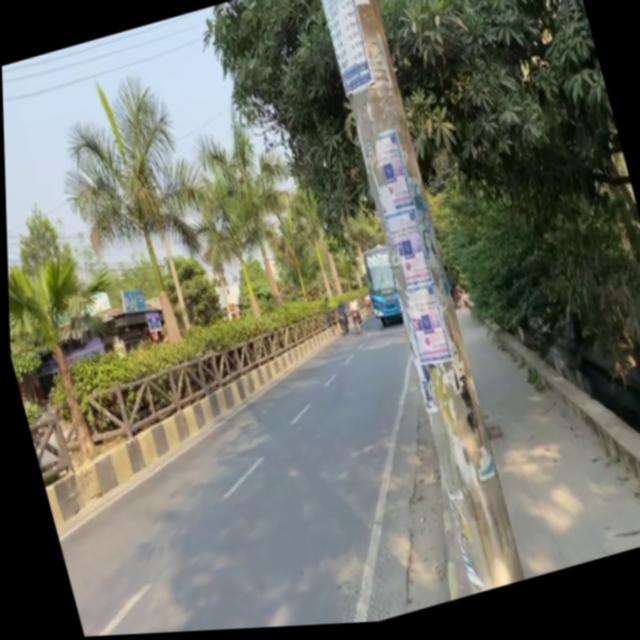Construction-barrier: (382, 342, 499, 608)
Garbage-bin: (343, 298, 364, 339), (330, 303, 348, 338)
Light-pole: (307, 0, 525, 604)
Pothole: (445, 248, 640, 586)
Traffic-cone: (353, 245, 404, 334)
